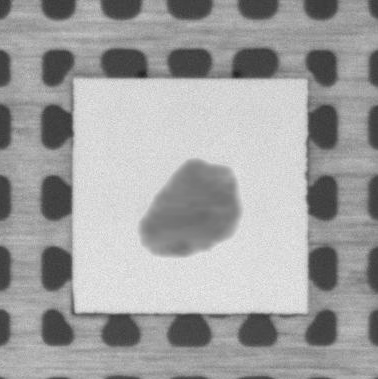DIE_INK: (133, 153, 242, 261)
